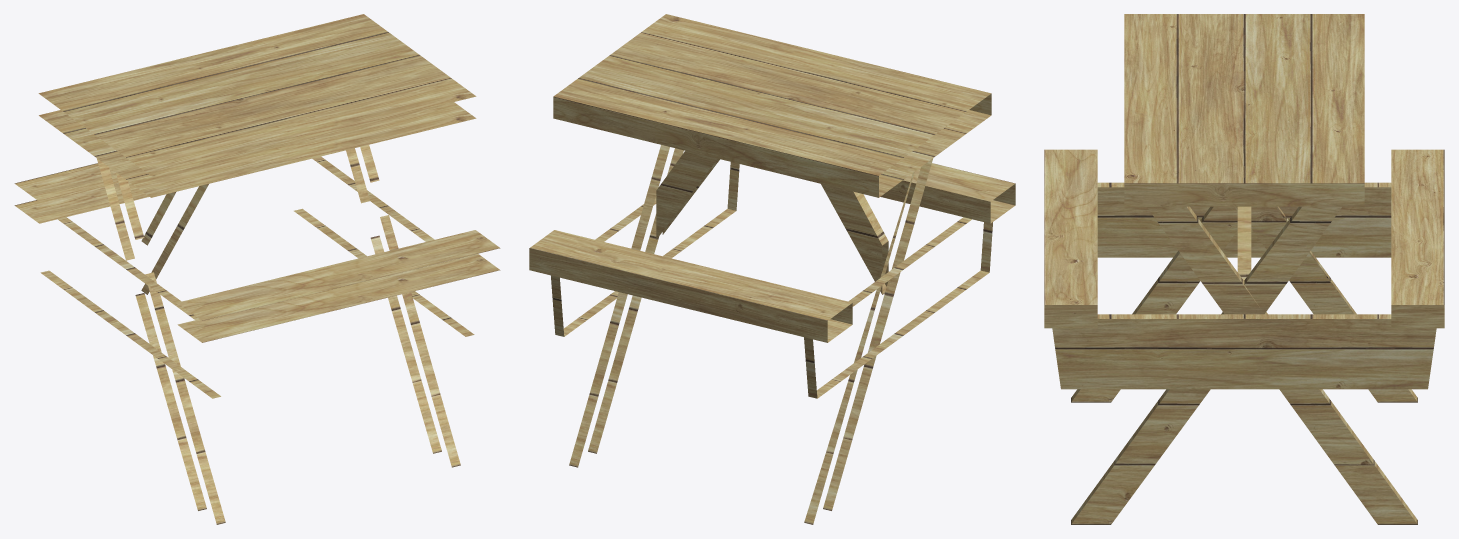
The model's file is tavolotest.gltf.
The picture shows the model from 3 angles, left to right: view 1: azimuth 30°, elevation 25°; view 2: azimuth 150°, elevation 25°; view 3: azimuth 270°, elevation 25°; orthographic projection. The views are drawn at different scales.
Visible parts, largest first — view 1: mesh_0; view 2: mesh_0; view 3: mesh_0.
Boxes of the visible parts, <box> form: mesh_0: <box>14,14,500,524</box>; mesh_0: <box>529,14,1015,524</box>; mesh_0: <box>1044,14,1444,524</box>.
Bounding box in the file's own units: 1 × 1 × 1.
Materials: 1 (1 with a texture image).
